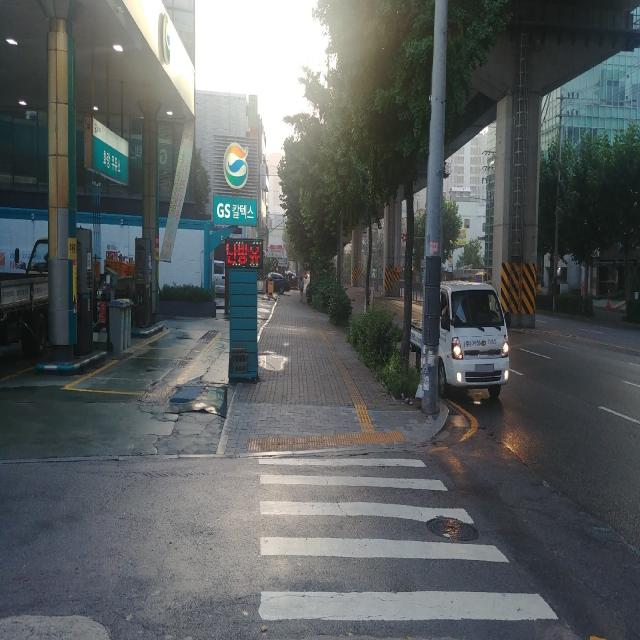횡단보도: (256, 454, 559, 625)
